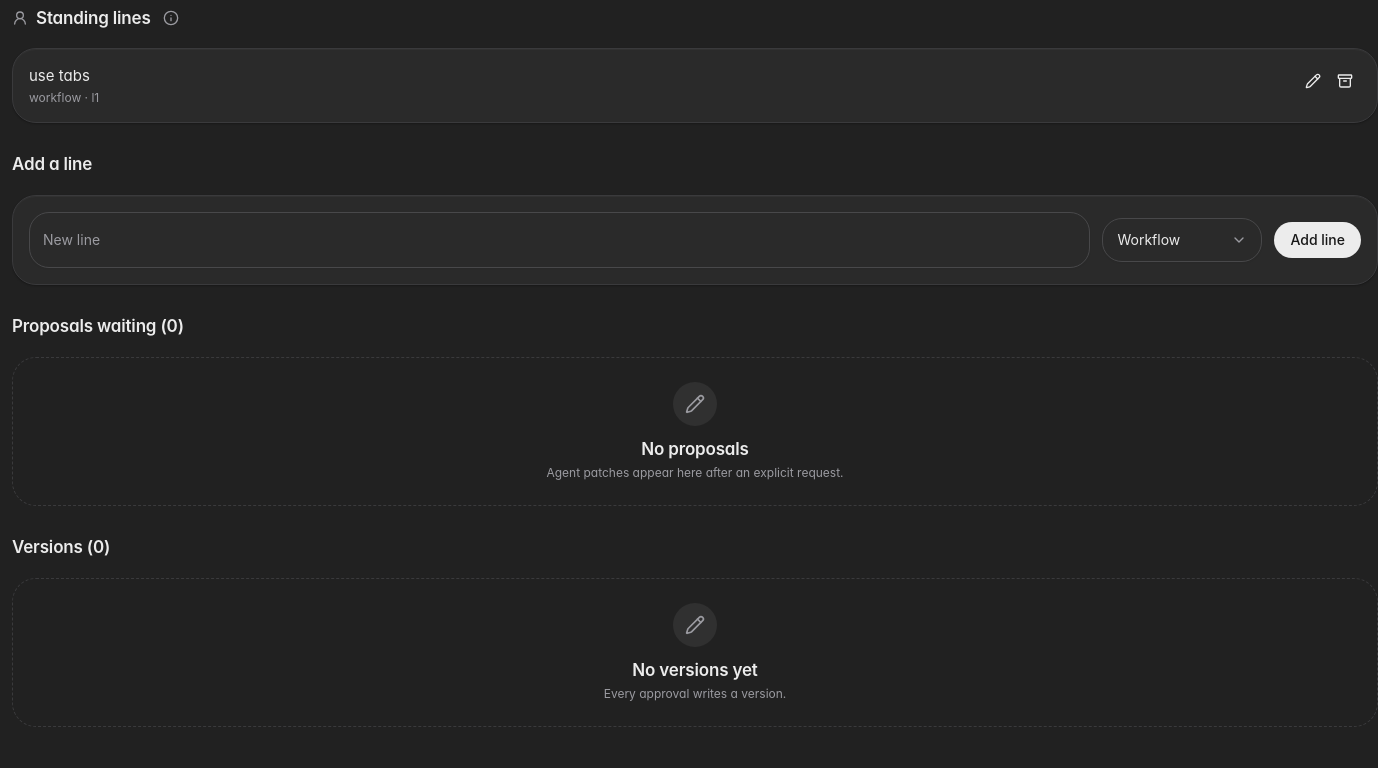
ProfileSettings › adds a line through the settings view
Expected: the text "use tabs" is shown, [29,66,90,85]
Type "short replies" into the field labelled "New line". click: (560, 240)
box: [29,212,1090,268]
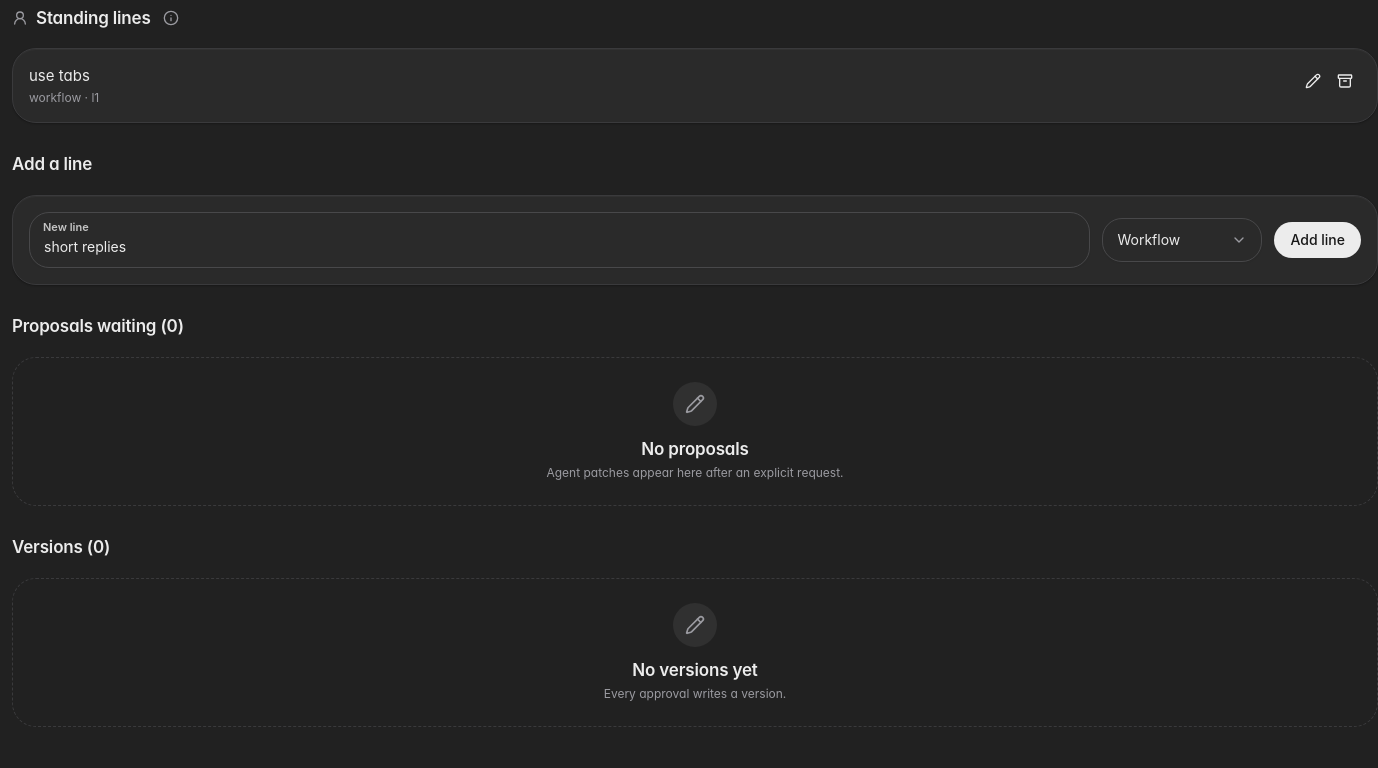
Click the button "Add line". click: (1318, 240)
box: [1274,222,1361,258]
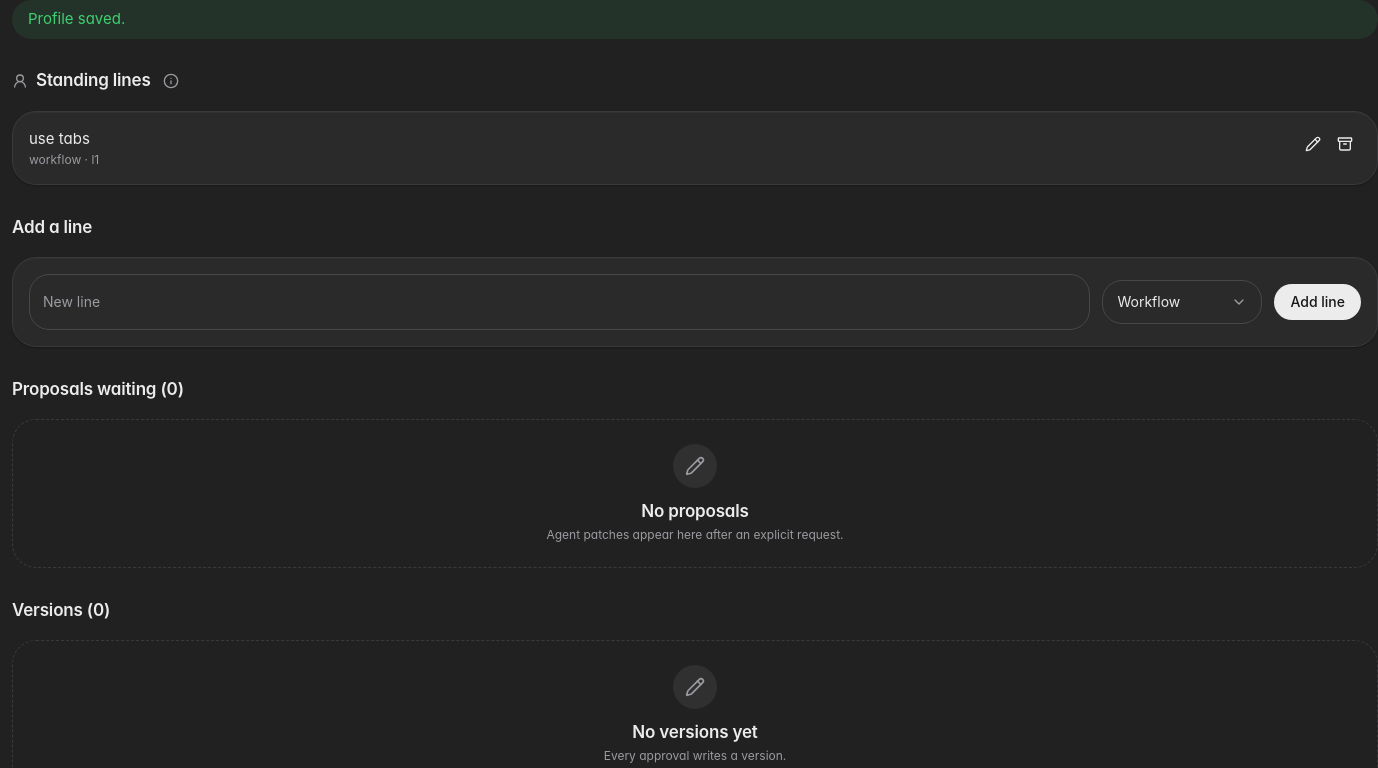
Result: the text "Profile saved." is shown at [12,0,1377,38]
